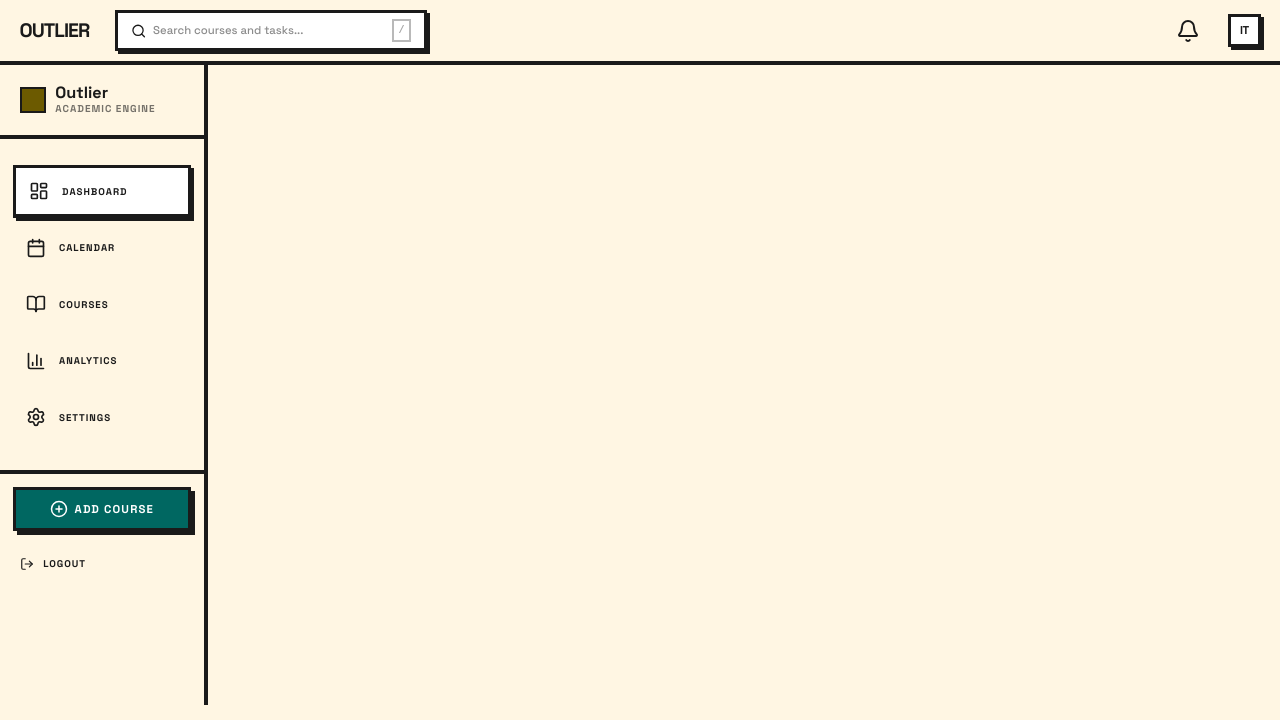
Scenario: Layout — sidebar Add Course button › navigates to /courses with ?action=add when clicked
The width and height of the screenshot is (1280, 720).
Click the button "Add Course" at coordinates (102, 509), box [13,487,191,531]
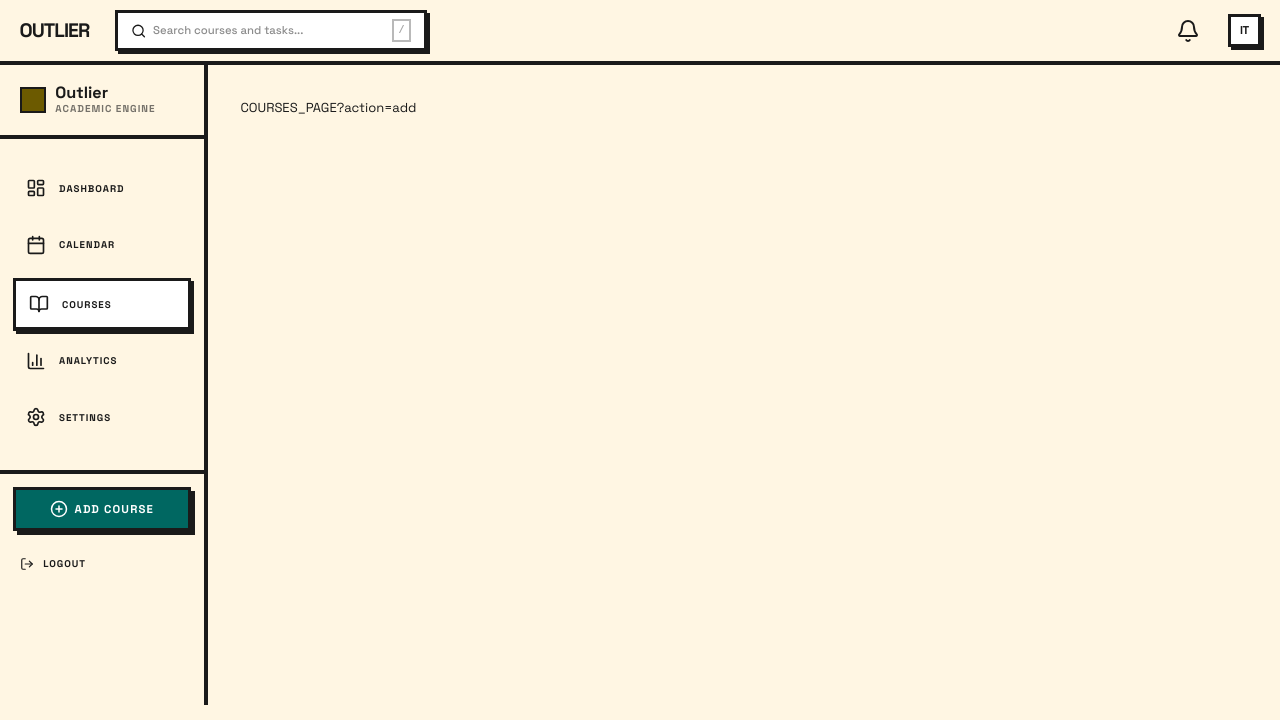
expect the text "COURSES_PAGE?action=add" is shown: met, box [240,98,416,116]
